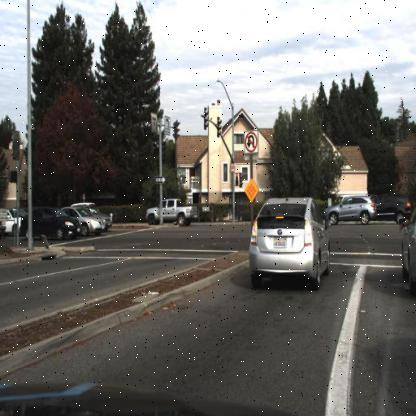car: (247, 196, 330, 286), (16, 202, 80, 245), (21, 206, 81, 241), (323, 193, 376, 230), (398, 207, 416, 292), (366, 191, 412, 223), (146, 198, 197, 224), (67, 206, 106, 233), (80, 209, 107, 247), (105, 206, 114, 230)
trafficLight-Red: (232, 169, 240, 187)
